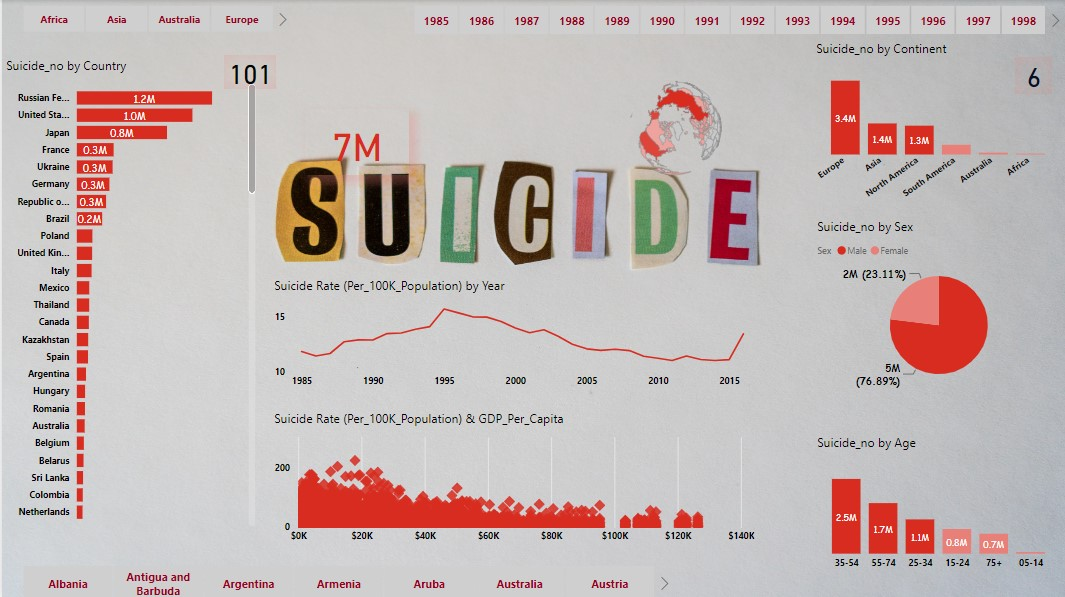

The page's visual inventory and layout, read from the dashboard file:
{"tool":"powerbi","page":{"name":"World Wide Suicide","canvas":[1280,720],"ordinal":0},"visuals":[{"type":"columnChart","fields":{"Category":["World Suicide.Continent"],"Y":["Sum(World Suicide.Suicides_No)"]},"box":[975.8,48.2,304.2,199.6],"z":0},{"type":"image","box":[0,48.6,59.1,52.6],"z":0,"group":"g1"},{"type":"image","box":[0,48.6,49.9,52.6],"z":1000,"group":"g1"},{"type":"pieChart","fields":{"Category":["AnalysisDataTable.Sex"],"Y":["Sum(AnalysisDataTable.Suicides_No)"]},"box":[976.5,262.5,303.4,210.7],"z":1000},{"type":"slicer","fields":{"Values":["AnalysisDataTable.Year.Variation.Date Hierarchy.Year"]},"box":[470.8,0,809.1,48.2],"z":2000},{"type":"barChart","fields":{"Category":["AnalysisDataTable.Country"],"Y":["Sum(AnalysisDataTable.Suicides_No)"]},"box":[0,68.8,309.7,569.8],"z":3000},{"type":"card","fields":{"Values":["Sum(AnalysisDataTable.Suicides_No)"]},"box":[364.7,130.8,125.2,79.8],"z":4000},{"type":"shapeMap","fields":{"Value":["Sum(AnalysisDataTable.Suicides_No)"],"Category":["World Suicide.Alpha-2 code"]},"box":[726,57.8,184.2,163.7],"z":5000},{"type":"columnChart","fields":{"Category":["World Suicide.Age"],"Y":["Sum(World Suicide.Suicides_No)"]},"box":[976.5,522.5,303.4,173.4],"z":6000},{"type":"card","fields":{"Values":["Count(World Suicide.Country)"]},"box":[267.3,57.8,65,48.2],"z":7000},{"type":"card","fields":{"Values":["Count(World Suicide.Continent)"]},"box":[1219.4,68.8,45.4,45.4],"z":8000},{"type":"lineChart","title":"Suicide_no by Year","fields":{"Category":["World Suicide.Year.Variation.Date Hierarchy.Year"],"Y":["Sum(World Suicide.Suicide_no)"]},"box":[322.7,333.5,587.6,143.3],"z":9000},{"type":"slicer","fields":{"Values":["World Suicide.Country"]},"box":[0,674.4,809.3,45.4],"z":10000},{"type":"scatterChart","title":"Suicide Rate (Per_100K_Population) & GDP_Per_Capita","fields":{"X":["World Suicide.GDP_Per_Capita"],"Y":["World Suicide.Suicide Rate (Per_100K_Population)"]},"box":[664.6,496.1,287.8,168.6],"z":11000},{"type":"slicer","fields":{"Values":["World Suicide.Continent"]},"box":[0,0,349.2,45.8],"z":12000},{"type":"lineStackedColumnComboChart","title":"Suicide Rate (Per_100K_Population) and GDP_Per_Capita by Year","fields":{"Category":["World Suicide.Year.Variation.Date Hierarchy.Year","World Suicide.Year.Variation.Date Hierarchy.Month"],"Y2":["Avg(World Suicide.Suicide Rate (Per_100K_Population))"],"Y":["Sum(World Suicide.GDP_Per_Capita)"]},"box":[322.7,496.1,317.9,168.6],"z":13000},{"type":"image","box":[557.1,170.8,59.1,52.6],"z":14000},{"type":"image","box":[557.1,281.2,59.1,52.6],"z":15000},{"type":"group","id":"g1","title":"Group 1","box":[0,48.6,59.1,52.6],"z":16000}]}

Visuals, with their boxes in screenshot pixels (x1, y1, x2, y2), scaled from the page's 1280x720 canvas onto the 1065x597 screenshot:
columnChart - World Suicide.Continent x Sum(World Suicide.Suicides_No): select_region(812, 40, 1064, 205)
image: select_region(0, 40, 49, 84)
image: select_region(0, 40, 42, 84)
pieChart - AnalysisDataTable.Sex x Sum(AnalysisDataTable.Suicides_No): select_region(812, 218, 1064, 392)
slicer - AnalysisDataTable.Year.Variation.Date Hierarchy.Year: select_region(392, 0, 1064, 40)
barChart - AnalysisDataTable.Country x Sum(AnalysisDataTable.Suicides_No): select_region(0, 57, 258, 530)
card - Sum(AnalysisDataTable.Suicides_No): select_region(303, 108, 408, 175)
shapeMap - Sum(AnalysisDataTable.Suicides_No) x World Suicide.Alpha-2 code: select_region(604, 48, 757, 184)
columnChart - World Suicide.Age x Sum(World Suicide.Suicides_No): select_region(812, 433, 1064, 577)
card - Count(World Suicide.Country): select_region(222, 48, 276, 88)
card - Count(World Suicide.Continent): select_region(1015, 57, 1052, 95)
"Suicide_no by Year" lineChart: select_region(268, 277, 757, 395)
slicer - World Suicide.Country: select_region(0, 559, 673, 596)
"Suicide Rate (Per_100K_Population) & GDP_Per_Capita" scatterChart: select_region(553, 411, 792, 551)
slicer - World Suicide.Continent: select_region(0, 0, 291, 38)
"Suicide Rate (Per_100K_Population) and GDP_Per_Capita by Year" lineStackedColumnComboChart: select_region(268, 411, 533, 551)
image: select_region(464, 142, 513, 185)
image: select_region(464, 233, 513, 277)
"Group 1" group: select_region(0, 40, 49, 84)
